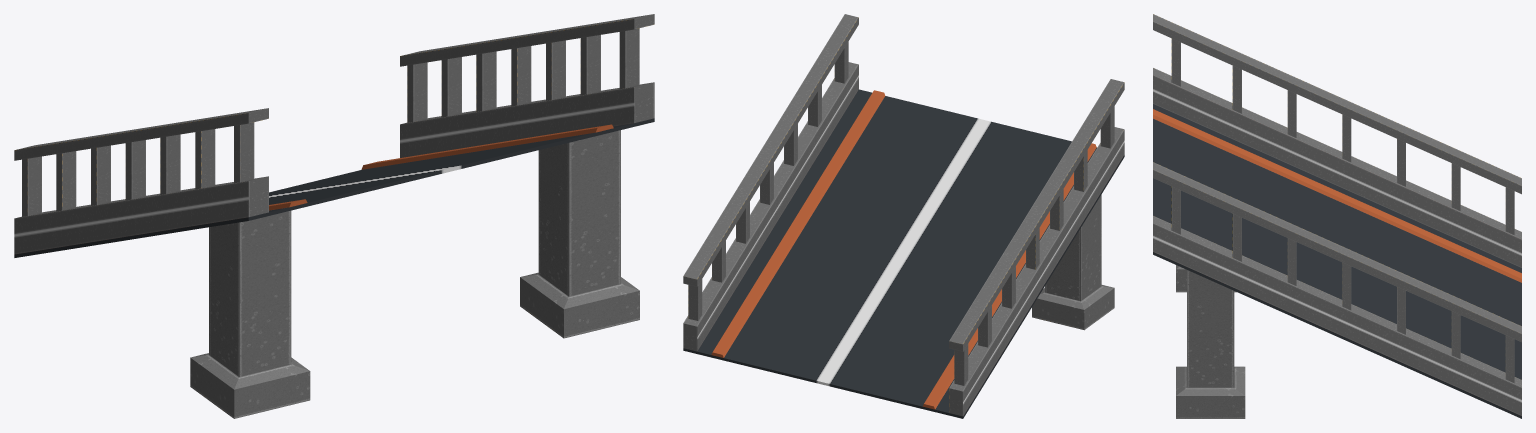
File: kartkids_base_trk_390_brg_entry_1x1.gltf
3 views of the same model, side by side, from view 1: azimuth 30°, elevation 25°; view 2: azimuth 150°, elevation 25°; view 3: azimuth 270°, elevation 25° (orthographic). The views are drawn at different scales.
Visible parts, largest first — view 1: kartkids_base_trk_390_brg_entry_1x1, kartkids_base_trk_390_brg_entry_1x1.002, kartkids_base_trk_390_brg_entry_1x1.001, kartkids_base_trk_390_brg_entry_1x1.003; view 2: kartkids_base_trk_390_brg_entry_1x1.003, kartkids_base_trk_390_brg_entry_1x1.002, kartkids_base_trk_390_brg_entry_1x1.001, kartkids_base_trk_390_brg_entry_1x1; view 3: kartkids_base_trk_390_brg_entry_1x1.003, kartkids_base_trk_390_brg_entry_1x1.001, kartkids_base_trk_390_brg_entry_1x1.002, kartkids_base_trk_390_brg_entry_1x1.
Boxes of the visible parts, box(x1,y1,x2,y2) form: kartkids_base_trk_390_brg_entry_1x1: box(190, 130, 639, 418); kartkids_base_trk_390_brg_entry_1x1.002: box(14, 14, 654, 216); kartkids_base_trk_390_brg_entry_1x1.001: box(14, 82, 654, 254); kartkids_base_trk_390_brg_entry_1x1.003: box(14, 118, 654, 257); kartkids_base_trk_390_brg_entry_1x1.003: box(683, 89, 1124, 418); kartkids_base_trk_390_brg_entry_1x1.002: box(683, 14, 1124, 385); kartkids_base_trk_390_brg_entry_1x1.001: box(683, 62, 1124, 416); kartkids_base_trk_390_brg_entry_1x1: box(1032, 194, 1114, 330); kartkids_base_trk_390_brg_entry_1x1.003: box(1153, 104, 1521, 418); kartkids_base_trk_390_brg_entry_1x1.001: box(1153, 68, 1521, 415); kartkids_base_trk_390_brg_entry_1x1.002: box(1153, 14, 1521, 383); kartkids_base_trk_390_brg_entry_1x1: box(1176, 265, 1245, 418).
Bounding box in the file's own units: 10 × 7.46 × 10.
2 materials, 2 textured.
